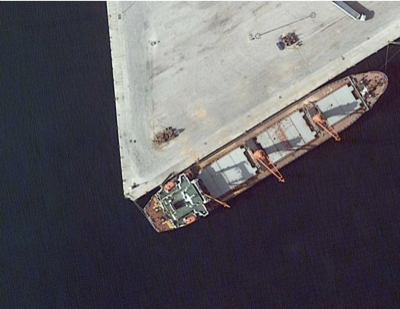boat: (142, 49, 389, 237)
